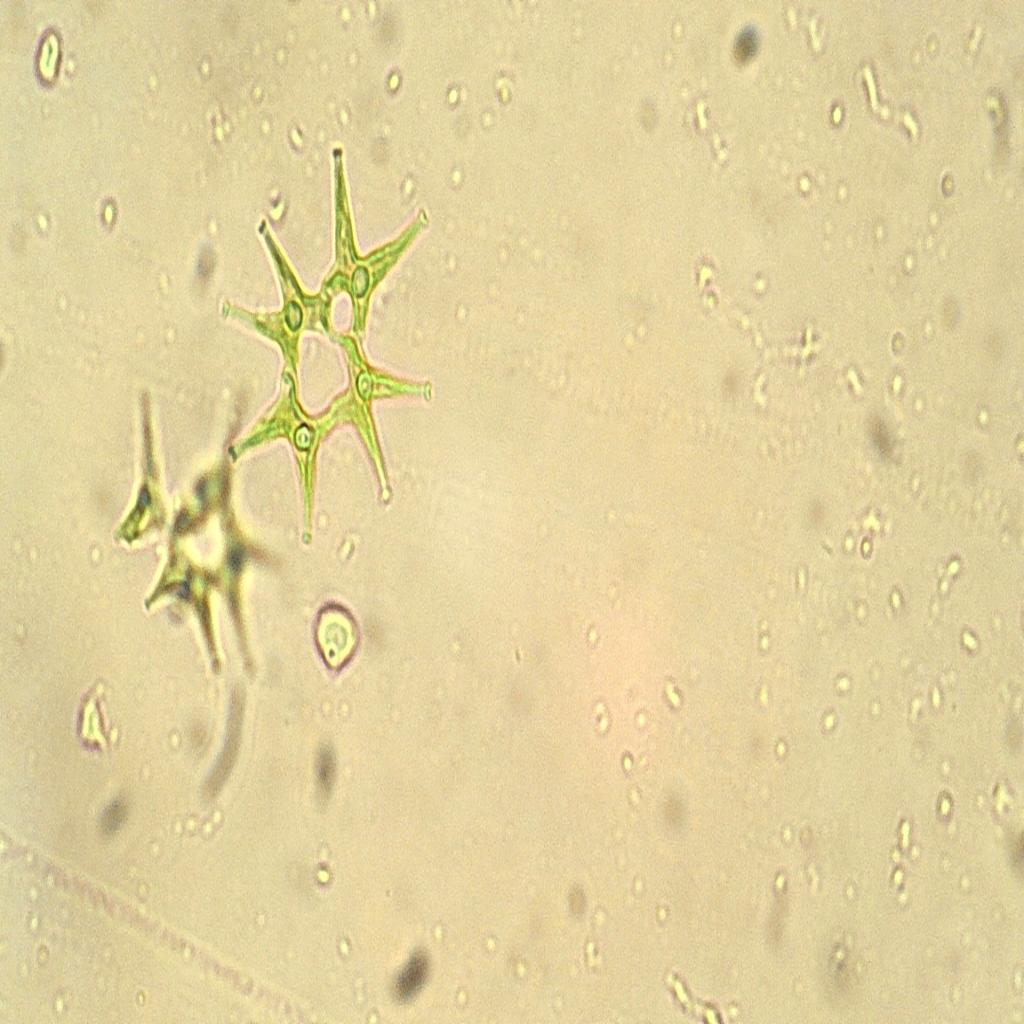Pediastrum_75FO: (209, 127, 440, 558)
